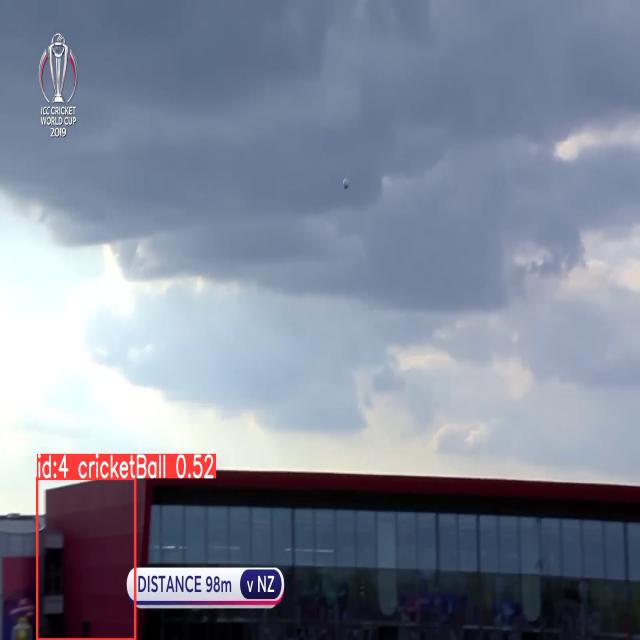ball: (341, 174, 350, 190)
